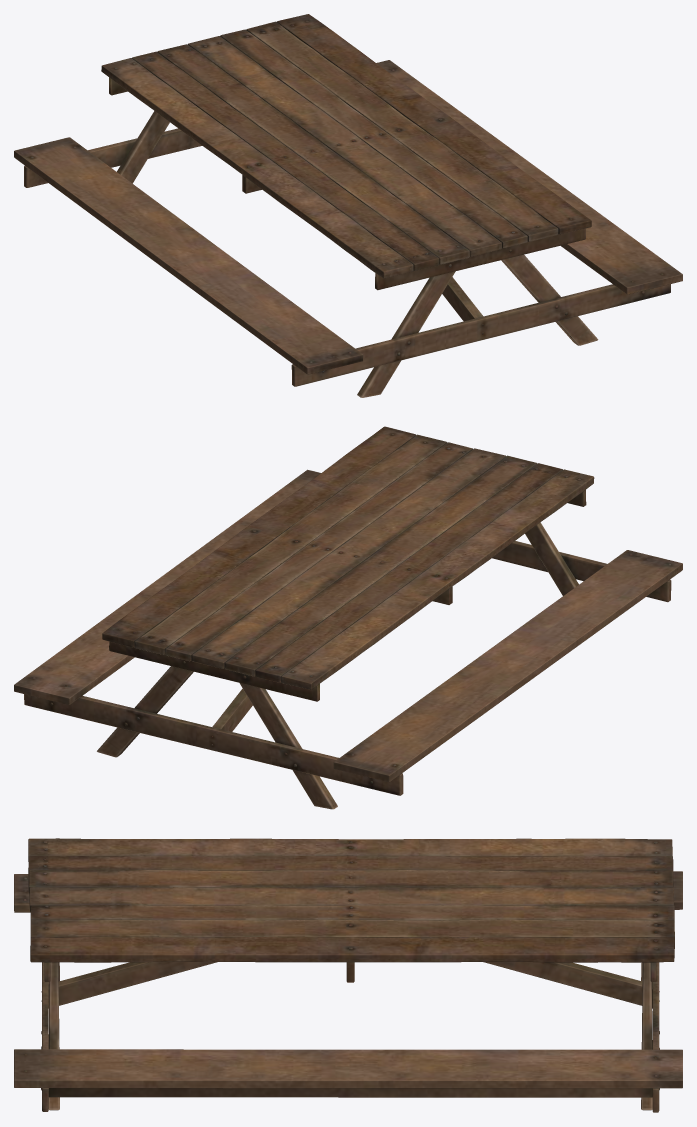
The model's file is picnic-table.14421131.glb.
The picture shows the model from 3 angles, top to bottom: view 1: azimuth 30°, elevation 25°; view 2: azimuth 150°, elevation 25°; view 3: azimuth 270°, elevation 25°; orthographic projection. The views are drawn at different scales.
Visible parts, largest first — view 1: model; view 2: model; view 3: model.
Part boxes in pixels (x1=…): model: x1=14, y1=14, x2=682, y2=397; model: x1=14, y1=426, x2=682, y2=809; model: x1=14, y1=838, x2=682, y2=1112.
Size of the model in its own units: 2.24 by 0.746 by 3.02.
2 materials, 2 textured.
